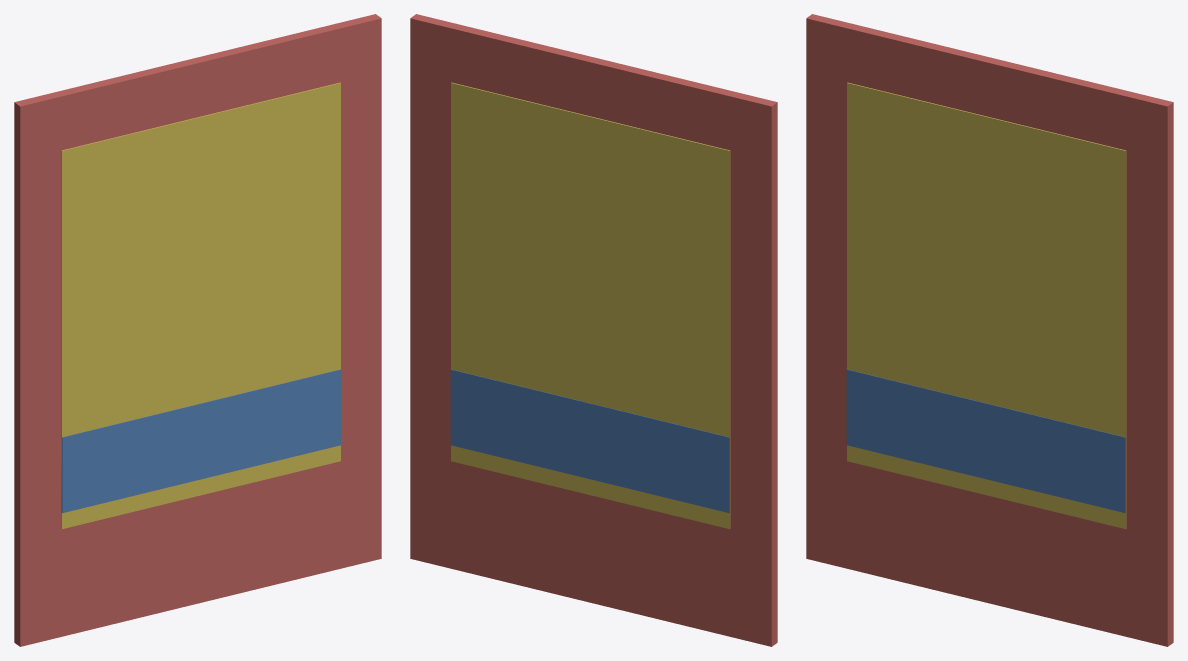
The model's file is arte_poster.glb.
3 views of the same model, side by side, from view 1: azimuth 30°, elevation 25°; view 2: azimuth 150°, elevation 25°; view 3: azimuth 330°, elevation 25° (orthographic).
Visible parts, largest first — view 1: ARTE_Poster_v01; view 2: ARTE_Poster_v01; view 3: ARTE_Poster_v01.
Part boxes in pixels (left/top/right/bottom): ARTE_Poster_v01: left=14, top=14, right=381, bottom=646; ARTE_Poster_v01: left=410, top=14, right=777, bottom=646; ARTE_Poster_v01: left=806, top=14, right=1173, bottom=646.
Bounding box in the file's own units: 0.7 × 1 × 0.026.
